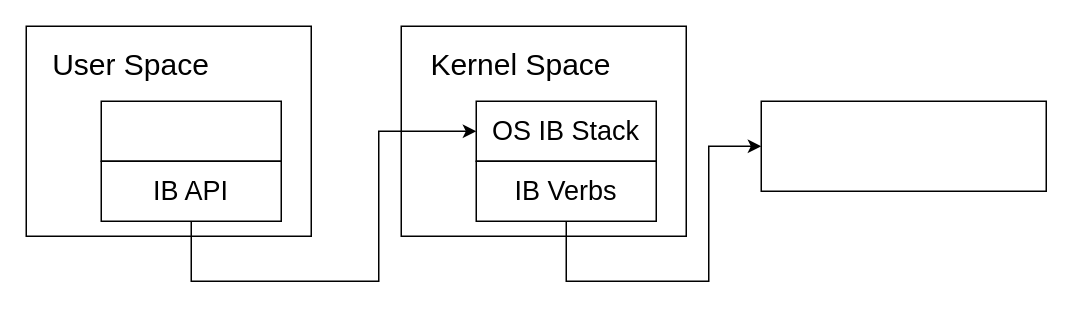
Some shapes in this 1073 by 320 pixel diagram are drawn without their labels. The shapes that lost their labels are listed below. From the top down, each one's box as (x1, y1, x2, y2) in pixels, then its label:
(100, 100, 281, 161): Application
(760, 100, 1046, 191): Hardware
